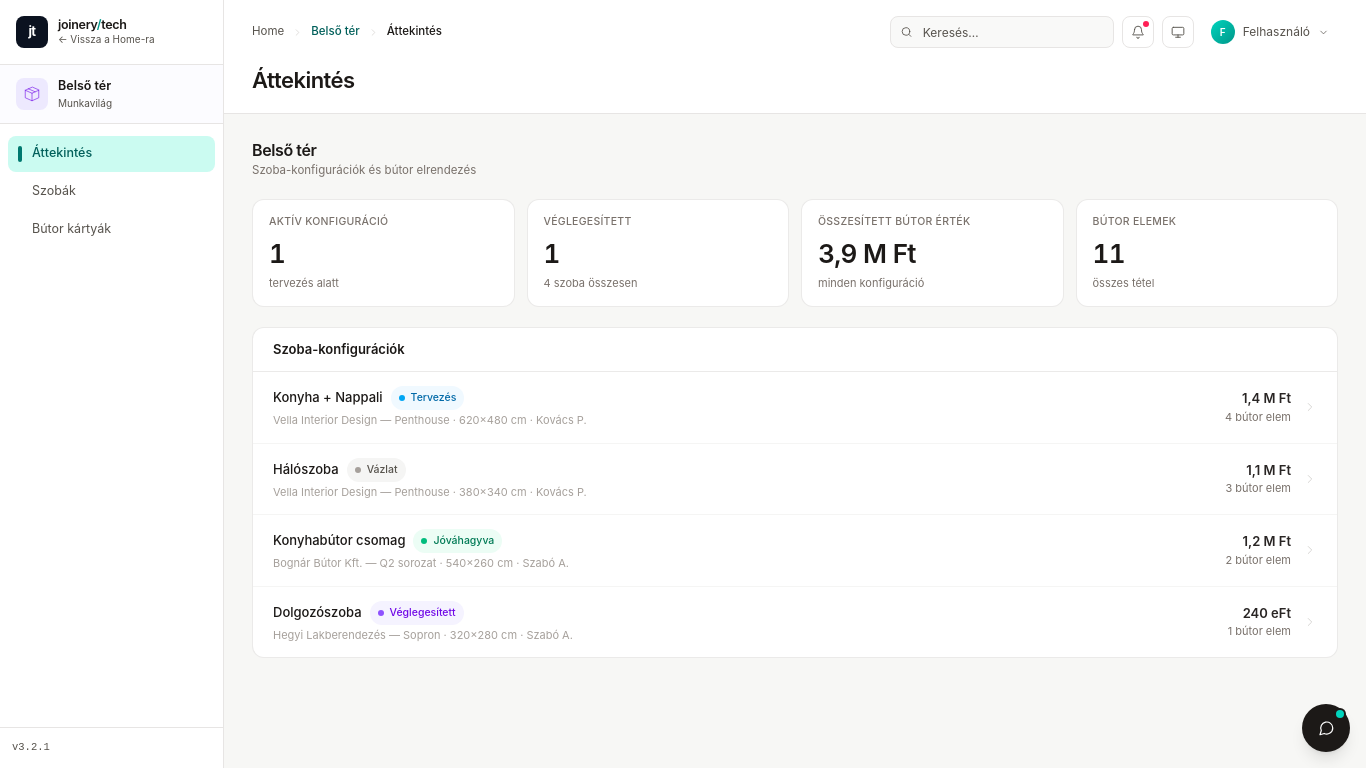
Test case: InteriorPage › clicking room opens detail SlideOver
Click the text "Konyha + Nappali" at (328, 398), box [273,388,383,408]
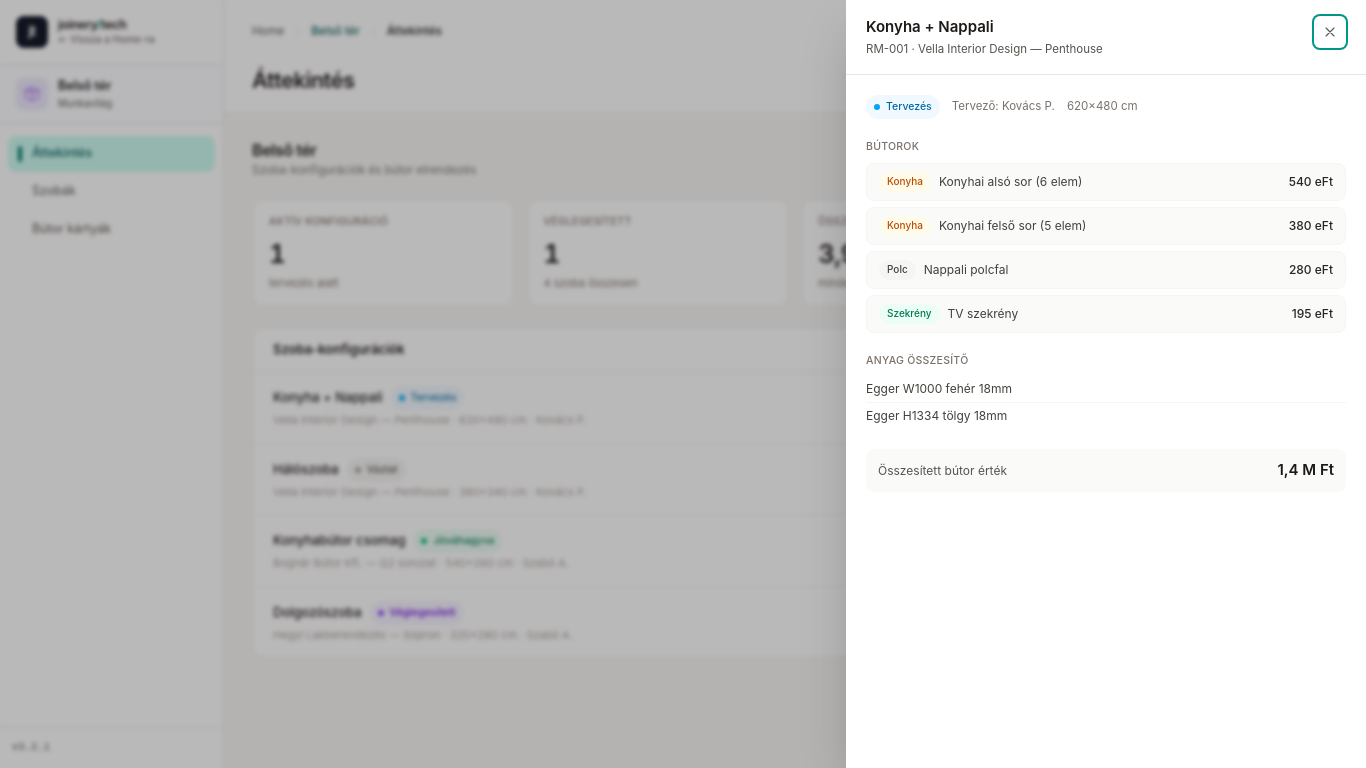
expect the text "RM-001 · Vella Interior Design — Penthouse" is shown: met, box [866,42,1103,56]
